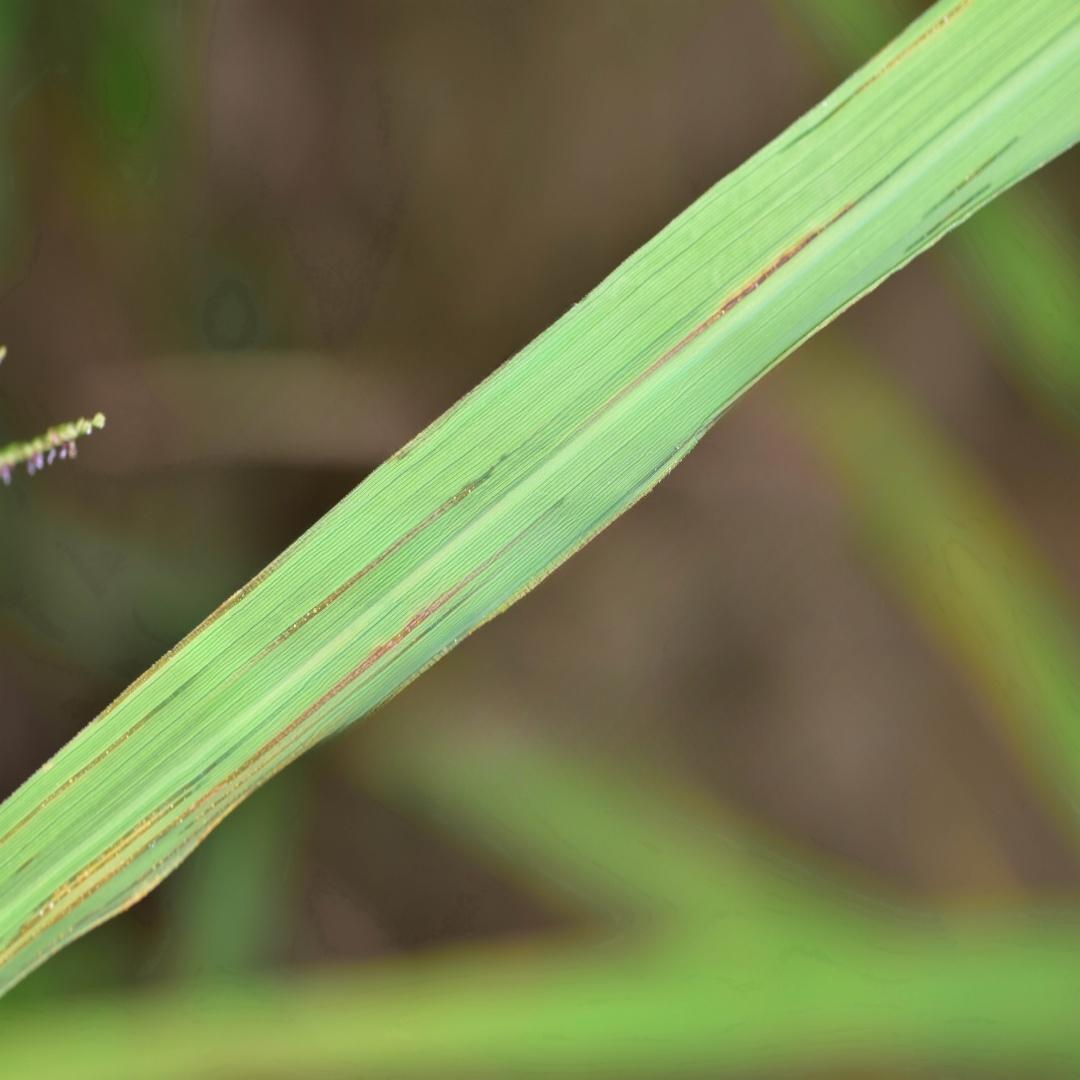BLS: (0, 520, 537, 967), (524, 181, 886, 480), (25, 692, 379, 965), (175, 577, 496, 835), (210, 455, 505, 696), (0, 719, 271, 957), (84, 492, 354, 729), (0, 661, 214, 845), (779, 1, 973, 154), (927, 137, 1021, 215), (905, 184, 991, 252)
LEAF: (0, 0, 1079, 999)
